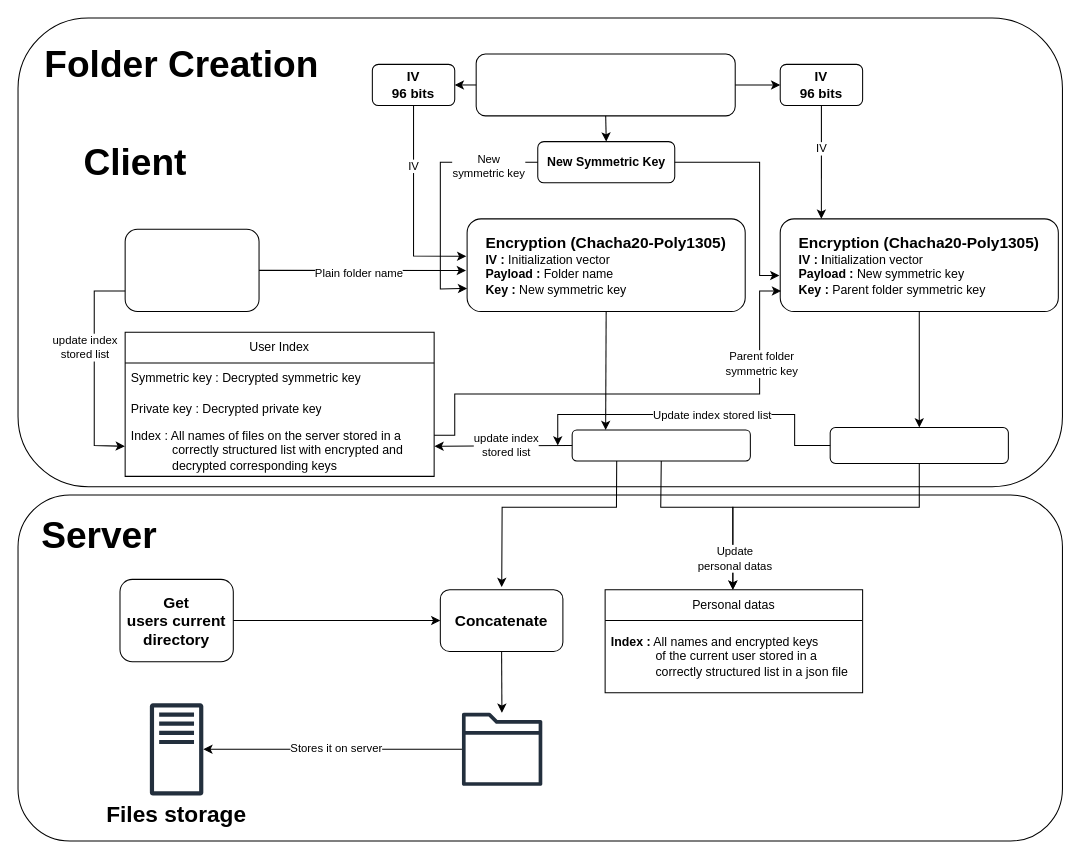
Some shapes in this 1080 by 859 pixel diagram are drawn without their labels. Each missing label, with the centre of its shape:
"Cryptographically Secure Pseudorandom Number Generator (CSPRNG)" goes at pixel 605 84.
"Encrypted Folder Name" goes at pixel 660 445.
"Encrypted Folder symmetric key" goes at pixel 918 445.
"Folder Creation Folder name" goes at pixel 191 270.
"New encrypted folder" goes at pixel 501 748.
